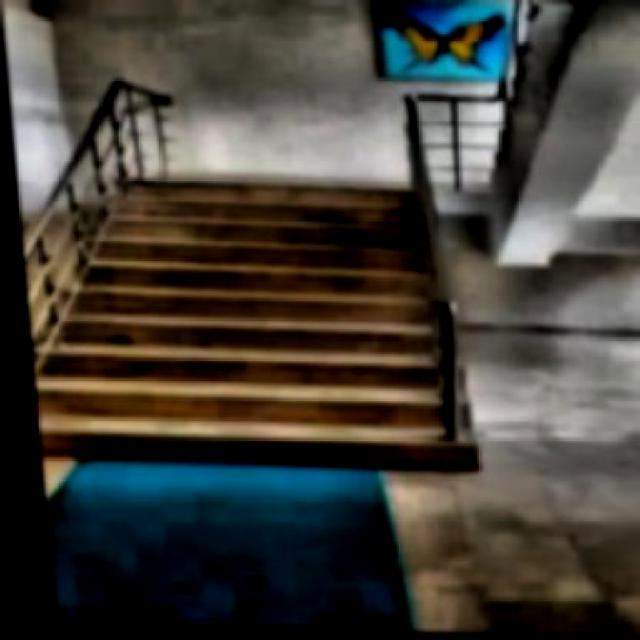stair: (16, 170, 470, 468)
